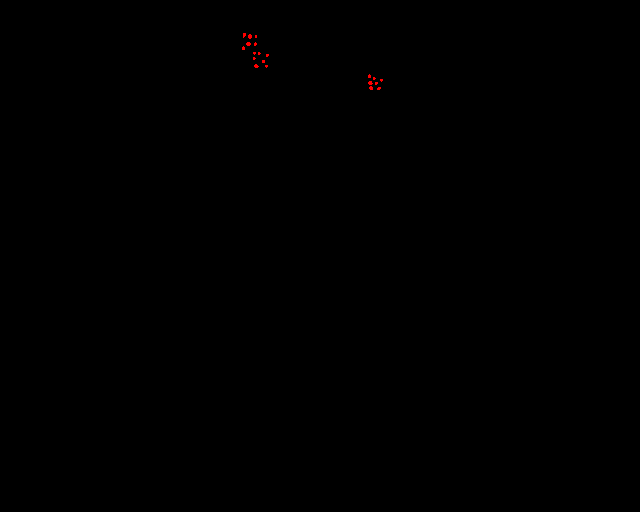Target: (248, 34, 252, 39), (246, 42, 251, 46), (254, 64, 259, 68), (368, 81, 373, 85), (369, 86, 373, 90), (243, 33, 246, 38), (254, 42, 257, 46), (242, 46, 245, 50), (368, 74, 371, 78), (377, 87, 381, 90), (253, 52, 256, 55), (258, 52, 261, 55), (266, 54, 269, 57), (253, 57, 256, 60), (262, 60, 265, 63), (265, 65, 268, 68), (373, 77, 376, 80), (380, 79, 383, 82), (375, 82, 378, 85), (255, 35, 257, 38)
